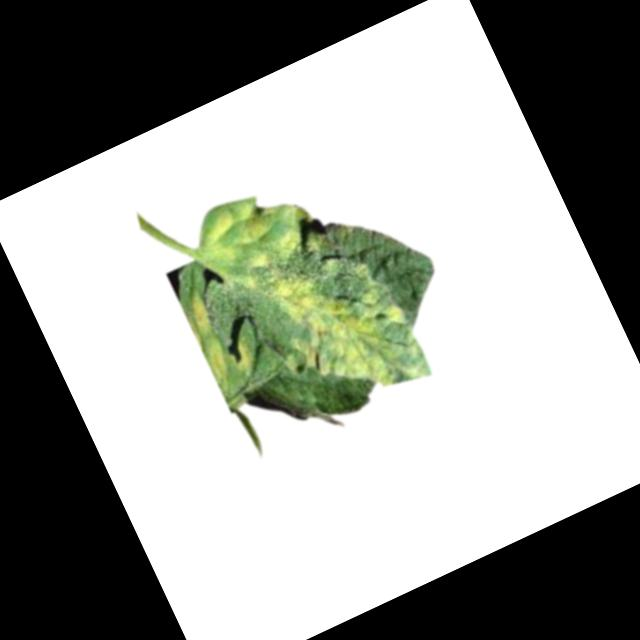Leaf_Mold: (249, 235, 433, 428), (188, 169, 331, 300), (196, 335, 236, 387), (182, 291, 216, 337), (227, 337, 256, 375)
